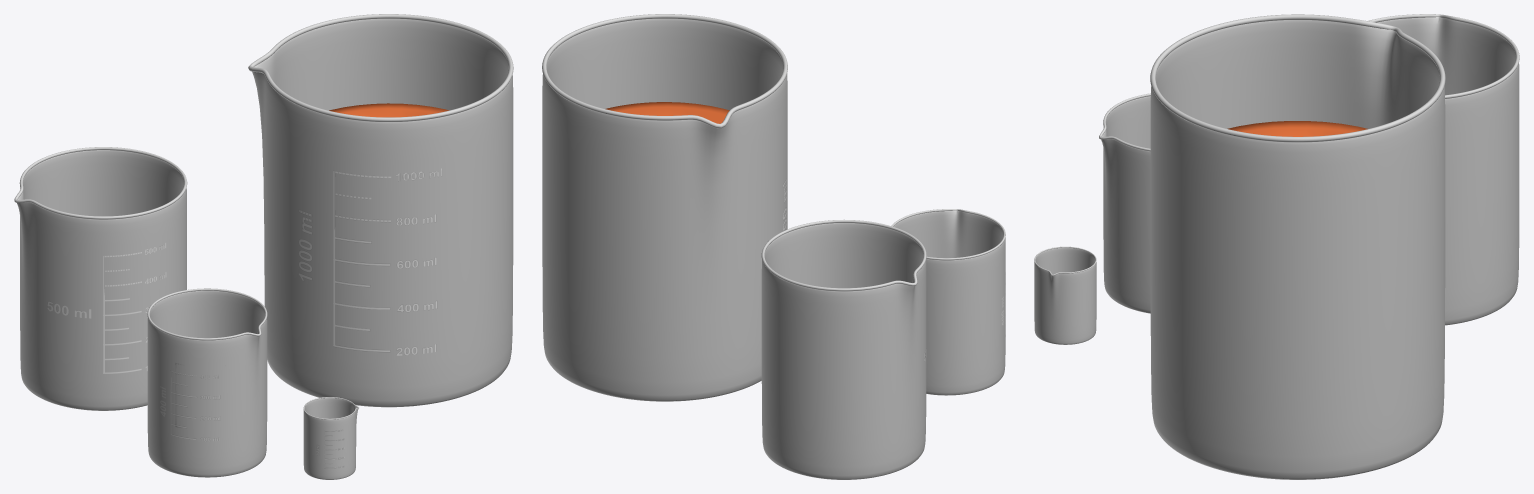
The model's file is lab_beaker.glb.
3 renders of one model, left to right at view 1: azimuth 30°, elevation 25°; view 2: azimuth 150°, elevation 25°; view 3: azimuth 270°, elevation 25°, orthographic. The views are drawn at different scales.
Parts seen in each view (by area): view 1: Circle_0, Circle.003_3, Circle.006_6, Circle.009_9, Circle.001_1, Circle.002_2, Circle.004_4, Circle.014_14, Circle.005_5, Circle.007_7, Circle.008_8; view 2: Circle_0, Circle.003_3, Circle.006_6, Circle.001_1, Circle.014_14, Circle.004_4, Circle.007_7; view 3: Circle_0, Circle.003_3, Circle.006_6, Circle.009_9, Circle.001_1, Circle.014_14, Circle.004_4.
Boxes of the visible parts, <box> form: Circle_0: <box>252,18,513,407</box>; Circle.003_3: <box>17,150,186,410</box>; Circle.006_6: <box>147,290,267,477</box>; Circle.009_9: <box>303,398,358,479</box>; Circle.001_1: <box>248,14,513,121</box>; Circle.002_2: <box>299,168,442,355</box>; Circle.004_4: <box>14,147,187,219</box>; Circle.014_14: <box>329,103,449,117</box>; Circle.005_5: <box>47,243,166,373</box>; Circle.007_7: <box>147,288,267,340</box>; Circle.008_8: <box>160,371,220,441</box>; Circle_0: <box>542,18,787,401</box>; Circle.003_3: <box>761,223,926,479</box>; Circle.006_6: <box>893,210,1005,395</box>; Circle.001_1: <box>542,14,787,128</box>; Circle.014_14: <box>605,102,729,123</box>; Circle.004_4: <box>761,219,926,291</box>; Circle.007_7: <box>891,209,1005,260</box>; Circle_0: <box>1150,20,1445,479</box>; Circle.003_3: <box>1377,17,1519,325</box>; Circle.006_6: <box>1101,96,1150,313</box>; Circle.009_9: <box>1034,247,1096,344</box>; Circle.001_1: <box>1150,14,1445,142</box>; Circle.014_14: <box>1227,121,1367,136</box>; Circle.004_4: <box>1368,14,1519,98</box>.
Bounding box in the file's own units: 3.02 × 2.01 × 2.54.
Materials: 9 (4 with a texture image).
